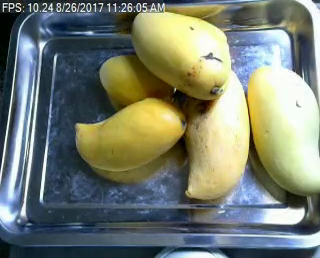Mango: (246, 67, 320, 193), (180, 66, 251, 197), (131, 10, 229, 98), (72, 97, 184, 170), (99, 54, 174, 107)
